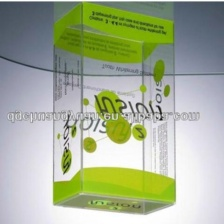plastic_box: (42, 0, 182, 221)
